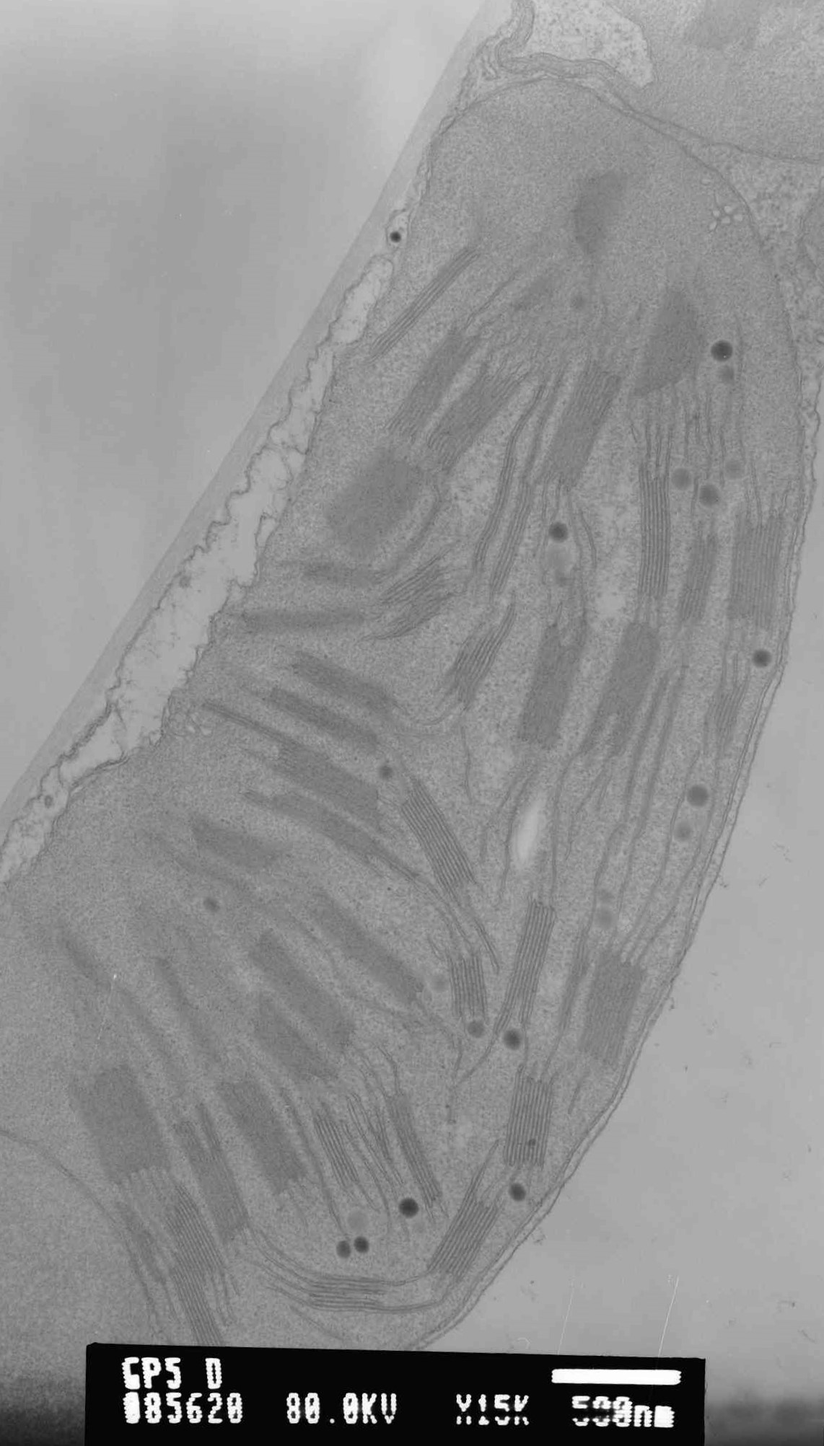granum: (200, 697, 384, 836), (239, 785, 425, 886), (250, 926, 358, 1063), (63, 1060, 175, 1189), (363, 244, 483, 363), (312, 894, 428, 1009), (381, 325, 484, 443), (217, 1070, 311, 1195), (322, 450, 426, 561), (544, 355, 625, 493), (161, 1185, 229, 1346), (170, 1118, 253, 1247), (395, 778, 477, 905), (593, 615, 663, 762), (426, 368, 521, 473), (573, 948, 652, 1070), (516, 623, 591, 751), (491, 900, 560, 1038), (627, 285, 708, 402), (249, 991, 344, 1085), (261, 681, 377, 753), (721, 507, 786, 634), (424, 1189, 507, 1282), (290, 650, 396, 721), (383, 1088, 445, 1207), (450, 603, 518, 709), (187, 810, 283, 876), (381, 555, 455, 637), (487, 478, 537, 596), (469, 453, 520, 565), (567, 171, 626, 267), (635, 462, 674, 601), (500, 1074, 555, 1172), (681, 0, 770, 52), (675, 529, 720, 627), (310, 1111, 363, 1194), (305, 1270, 390, 1315), (239, 606, 365, 636), (555, 937, 593, 1033), (445, 947, 491, 1023), (703, 680, 749, 752), (300, 560, 380, 591), (372, 1120, 397, 1165)
